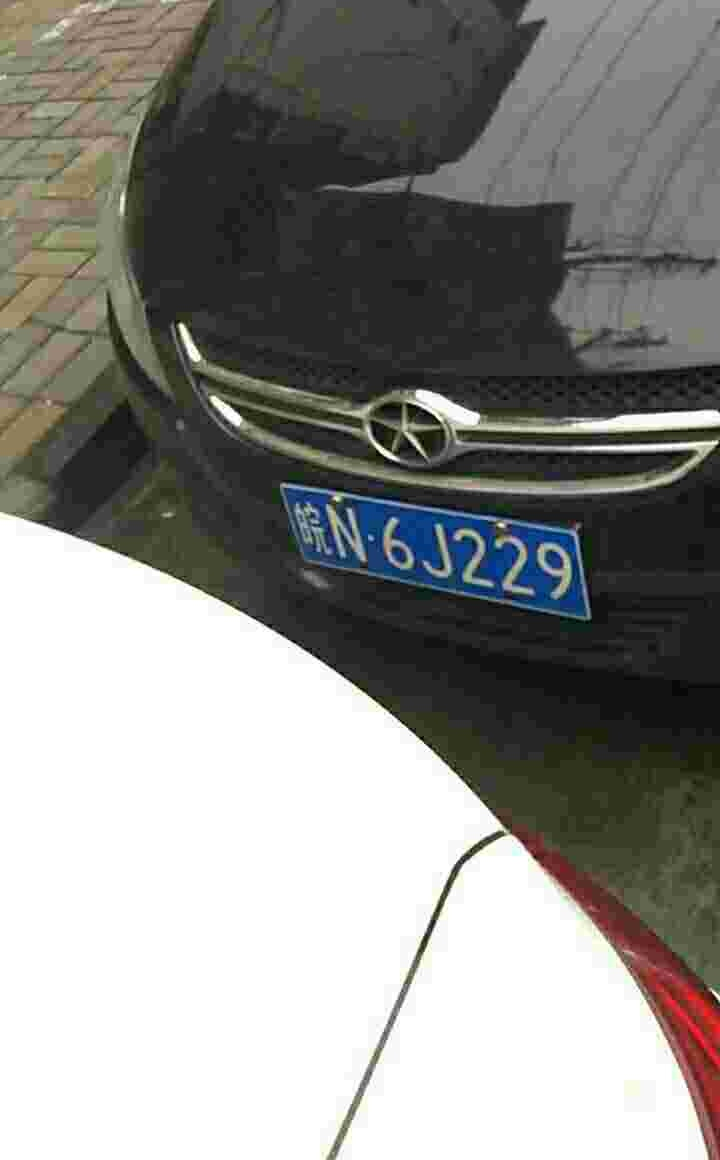license_plate: (278, 472, 589, 619)
